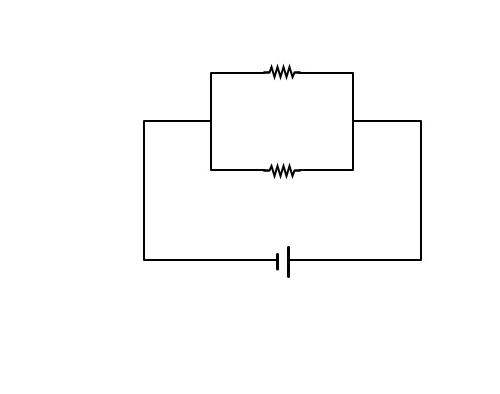resistor: (256, 56, 311, 91), (258, 151, 305, 190)
